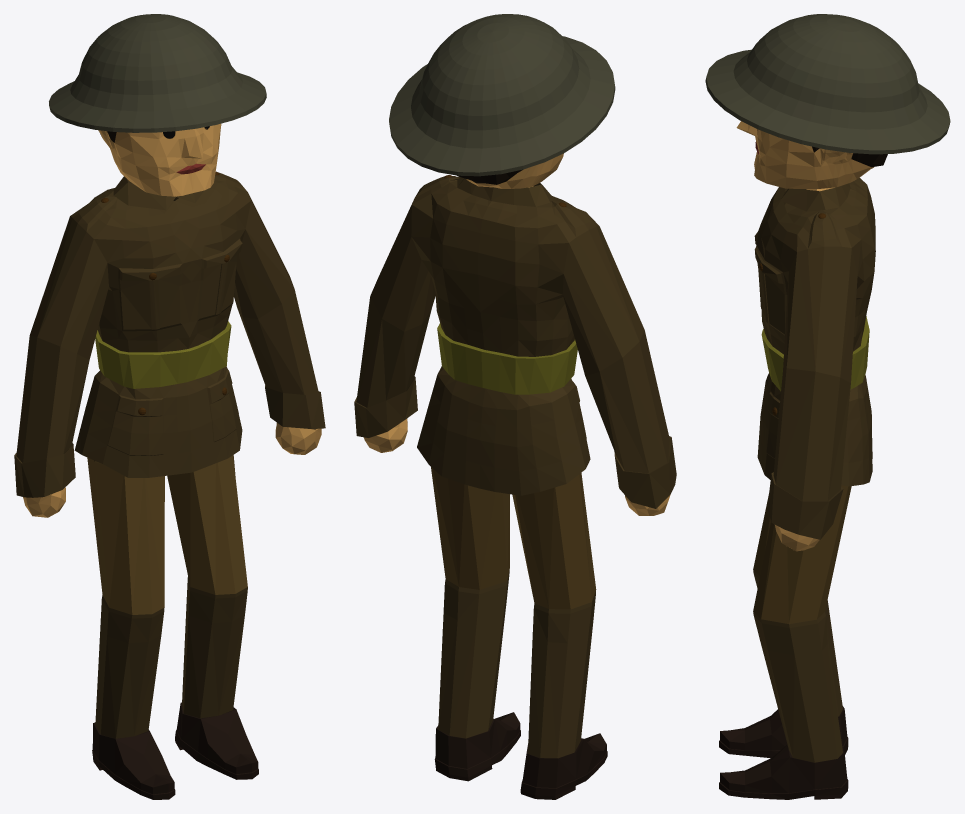
File: soldier.dae
The picture shows the model from 3 angles, left to right: view 1: azimuth 30°, elevation 25°; view 2: azimuth 150°, elevation 25°; view 3: azimuth 270°, elevation 25°; orthographic projection. The views are drawn at different scales.
Visible parts, largest first — view 1: Cube_001, Sphere; view 2: Cube_001, Sphere; view 3: Cube_001, Sphere.
Boxes of the visible parts, x1,y1,x2,y2 form: Cube_001: (14,123,325,799); Sphere: (49,14,266,132); Cube_001: (354,153,676,799); Sphere: (389,14,615,176); Cube_001: (719,121,887,799); Sphere: (705,14,950,154).
Size of the model in its own units: 2.11 by 1.47 by 4.96.
Materials: 12 (1 with a texture image).
